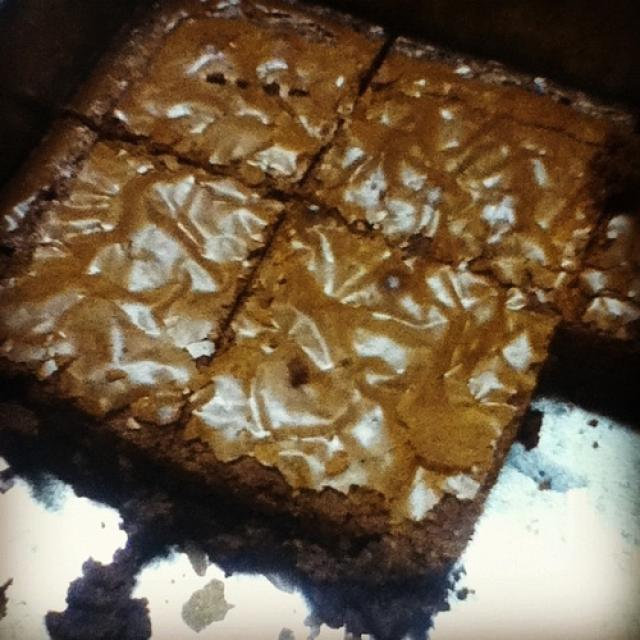蛋糕甜品: (18, 34, 595, 592)
